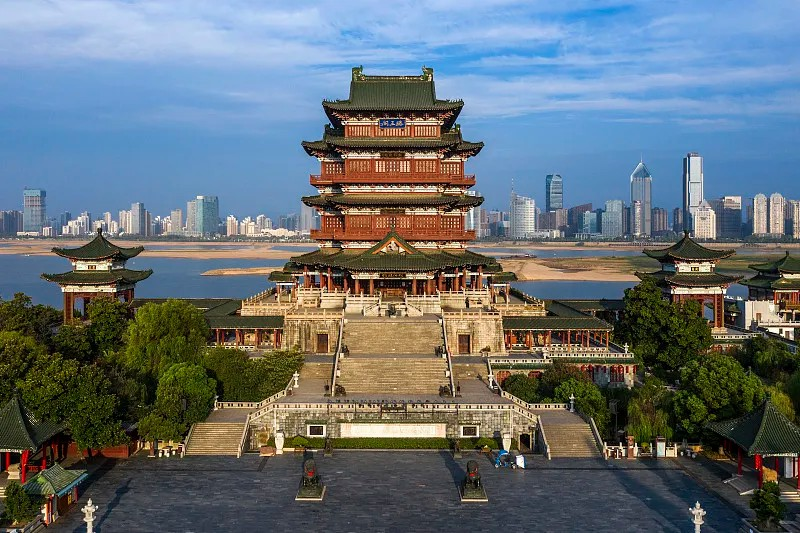Teng: (266, 64, 519, 305)
